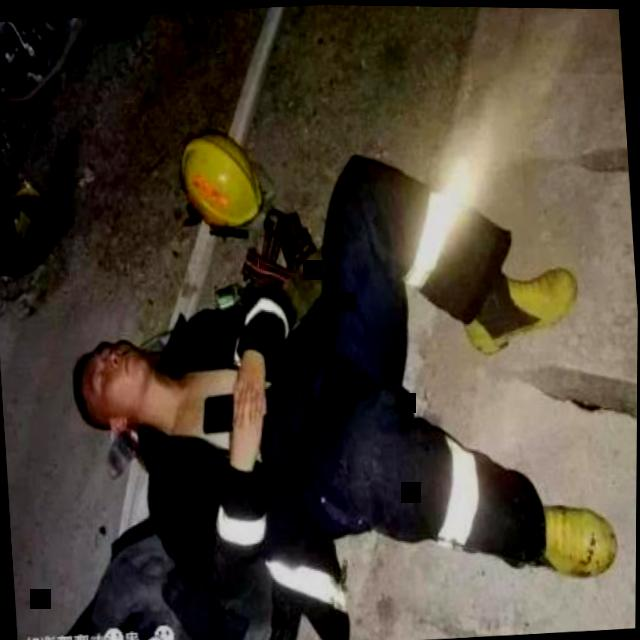Fall-Detected: (55, 87, 639, 640)
